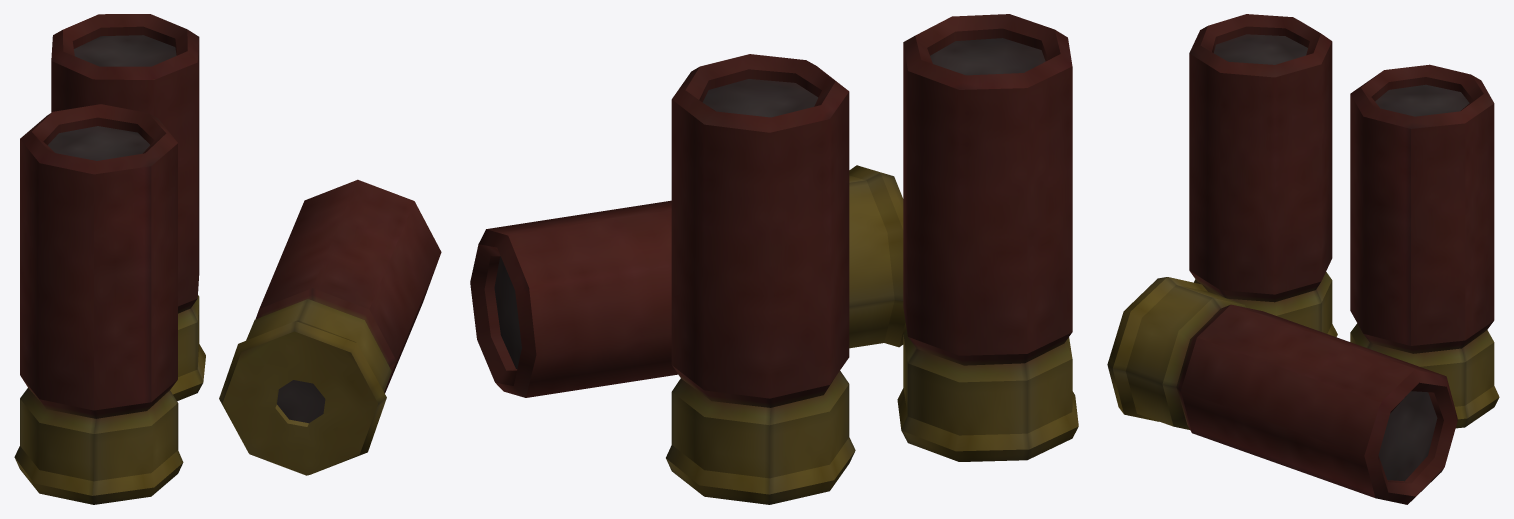
File: shotgun_ammo_1.obj
The picture shows the model from 3 angles, left to right: view 1: azimuth 30°, elevation 25°; view 2: azimuth 150°, elevation 25°; view 3: azimuth 270°, elevation 25°; orthographic projection. The views are drawn at different scales.
Visible parts, largest first — view 1: shotgun_ammo_1; view 2: shotgun_ammo_1; view 3: shotgun_ammo_1.
Boxes of the visible parts, x1=… form: shotgun_ammo_1: x1=14, y1=14, x2=441, y2=504; shotgun_ammo_1: x1=470, y1=14, x2=1078, y2=504; shotgun_ammo_1: x1=1107, y1=14, x2=1499, y2=504.
Bounding box in the file's own units: 3.57 × 2.46 × 2.8.
1 material, 1 textured.
